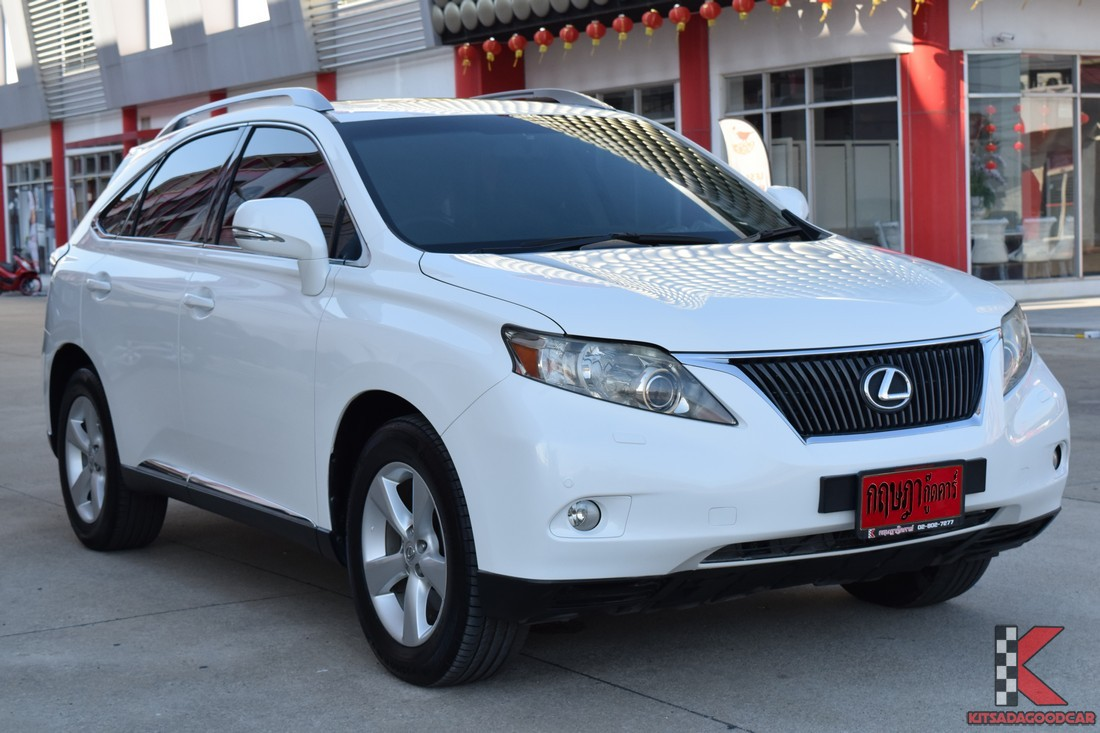pickup: (42, 87, 1067, 685)
